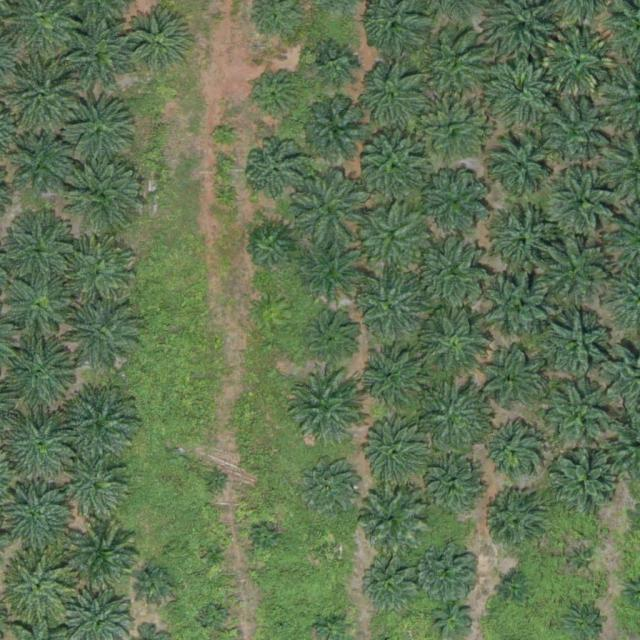Healthy: (64, 93, 142, 172), (63, 153, 141, 232), (2, 61, 80, 140), (289, 169, 367, 248), (60, 234, 138, 313), (2, 411, 80, 490), (63, 297, 141, 376), (60, 387, 138, 466), (67, 525, 145, 604), (285, 369, 363, 448), (541, 378, 619, 457), (418, 379, 496, 457), (416, 95, 487, 166), (124, 10, 195, 81), (5, 134, 76, 205), (419, 307, 490, 378), (544, 99, 614, 170), (486, 132, 556, 203), (420, 29, 490, 100), (361, 134, 432, 204), (355, 61, 425, 132), (66, 20, 136, 91), (549, 167, 619, 238), (422, 165, 493, 235), (360, 206, 430, 277), (354, 484, 425, 554), (419, 237, 490, 307), (480, 269, 551, 339), (539, 238, 609, 309), (6, 551, 76, 622), (486, 55, 556, 125), (298, 238, 368, 308), (490, 209, 560, 279), (357, 273, 427, 343), (359, 419, 429, 489), (541, 309, 611, 379), (552, 450, 622, 520), (362, 349, 425, 412), (420, 541, 483, 604), (305, 102, 367, 165), (67, 459, 129, 522), (298, 456, 360, 519), (424, 456, 486, 519), (480, 349, 542, 412), (481, 422, 543, 485), (480, 493, 542, 556), (245, 141, 307, 203), (9, 278, 71, 340), (249, 70, 304, 125), (305, 309, 360, 364), (366, 561, 420, 616), (312, 42, 359, 89), (249, 225, 296, 272), (503, 579, 527, 602)
Small: (136, 565, 175, 605), (434, 600, 473, 639), (565, 546, 596, 577), (202, 605, 226, 629), (204, 544, 228, 568), (205, 470, 229, 494), (214, 127, 237, 151), (320, 541, 344, 564), (256, 528, 279, 552), (275, 622, 290, 637)
Yellow: (544, 27, 614, 97)
